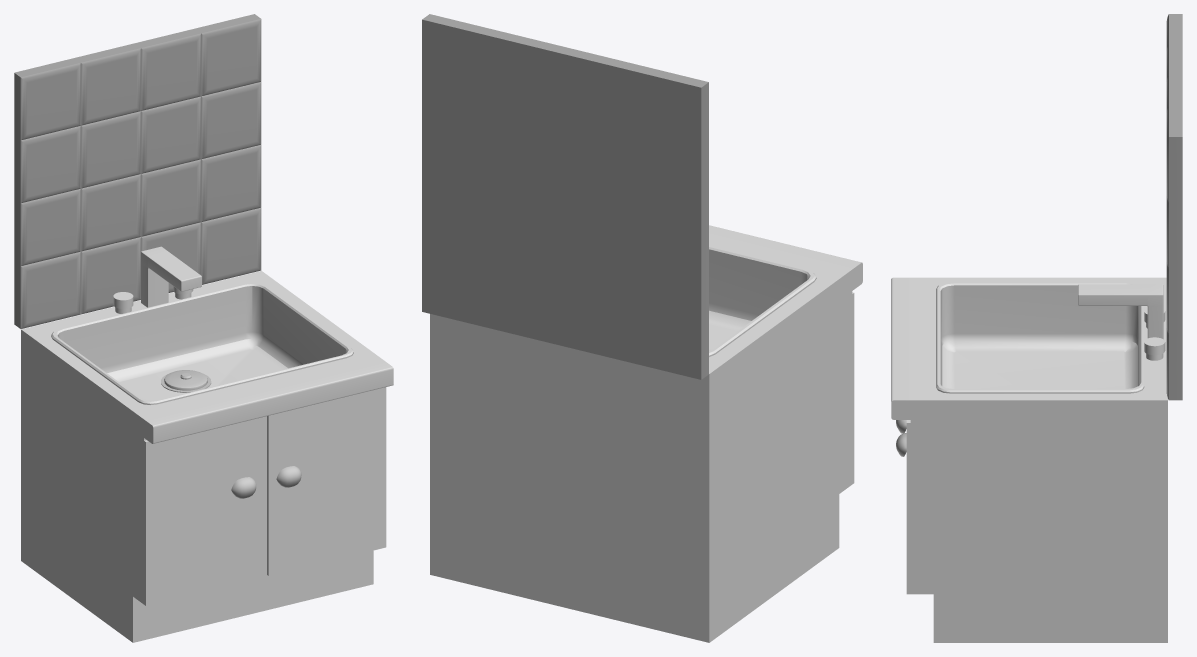
File: geo_counterSink.fbx
3 renders of one model, left to right at view 1: azimuth 30°, elevation 25°; view 2: azimuth 150°, elevation 25°; view 3: azimuth 270°, elevation 25°, orthographic. The views are drawn at different scales.
Parts seen in each view (by area): view 1: geo_counterSink; view 2: geo_counterSink; view 3: geo_counterSink.
Part boxes in pixels (x1,y1,x2,y2): geo_counterSink: (14,14,393,642); geo_counterSink: (422,14,862,642); geo_counterSink: (891,14,1182,642).
Bounding box in the file's own units: 1 × 1.92 × 1.
Materials: 1 (1 with a texture image).
